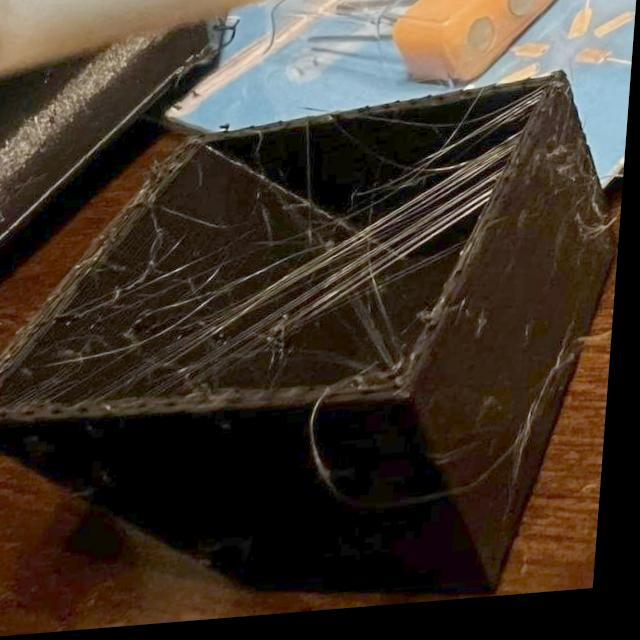stringing: (0, 96, 563, 424)
